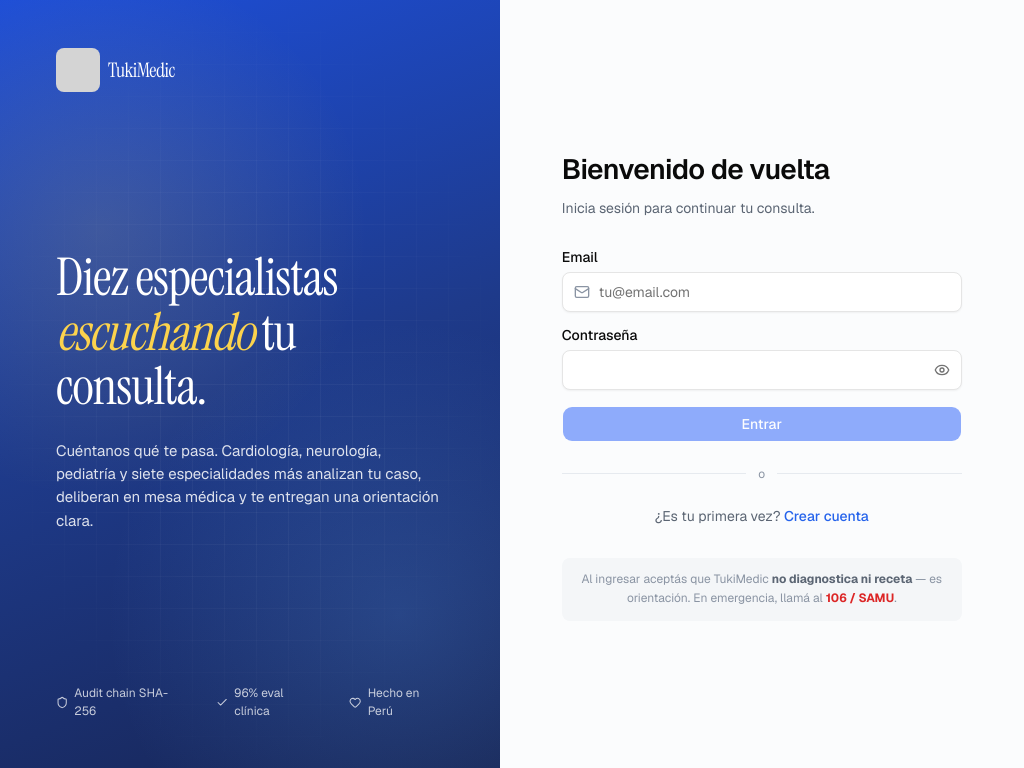
LoginPage › 403 shows "Cuenta deshabilitada"
This screenshot has width=1024, height=768.
Type "disabled@x.com" into the field labelled "Email" at (762,292), box [562,272,962,312]
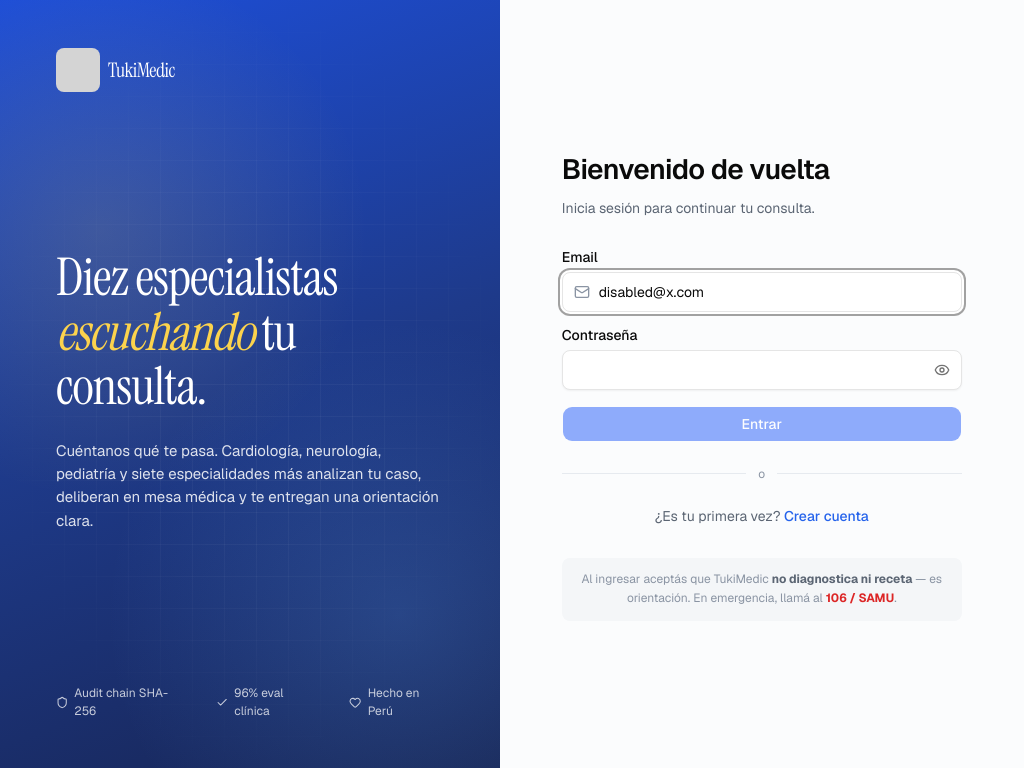
Type "somepassword" into the password field labelled "Contraseña" at (762,370), box [562,350,962,390]
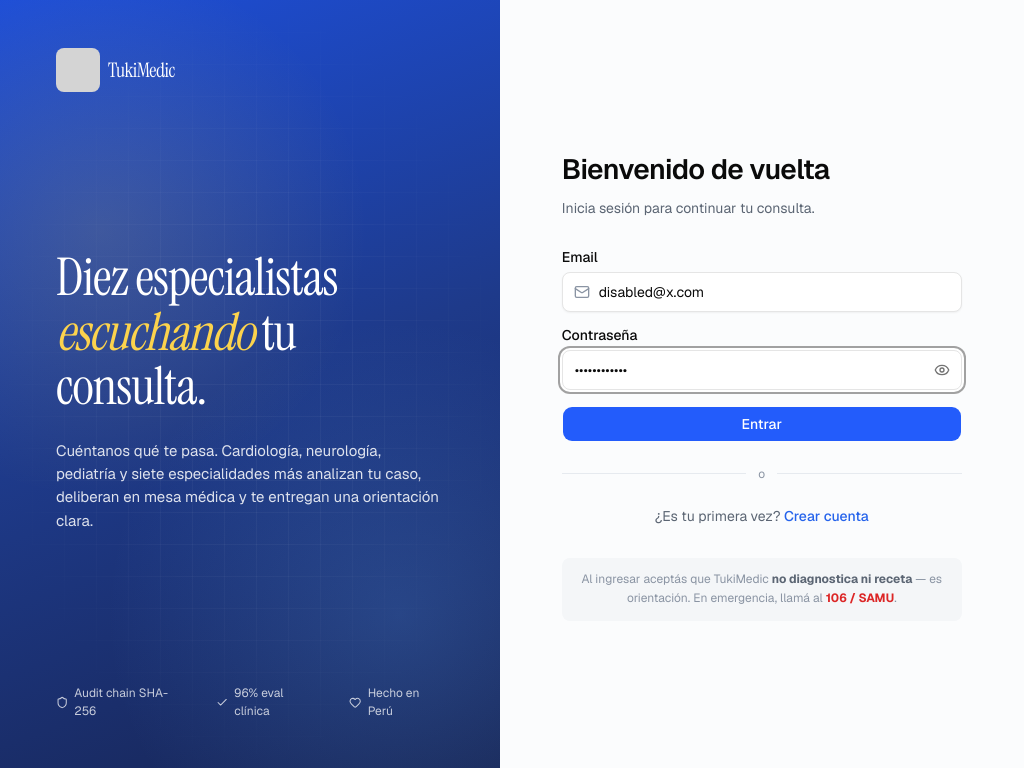
Click the button "Entrar" at (762,424), box [562,406,962,442]
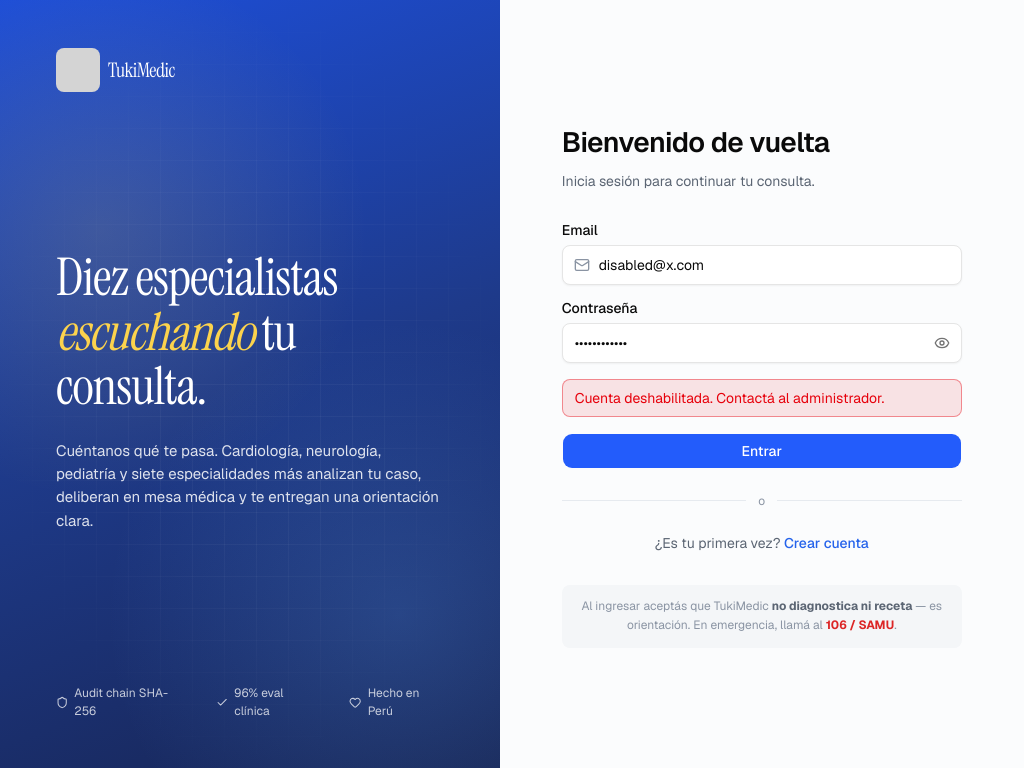
Expected: the text "Cuenta deshabilitada. Contactá al administrador." is shown, [562,378,962,416]
